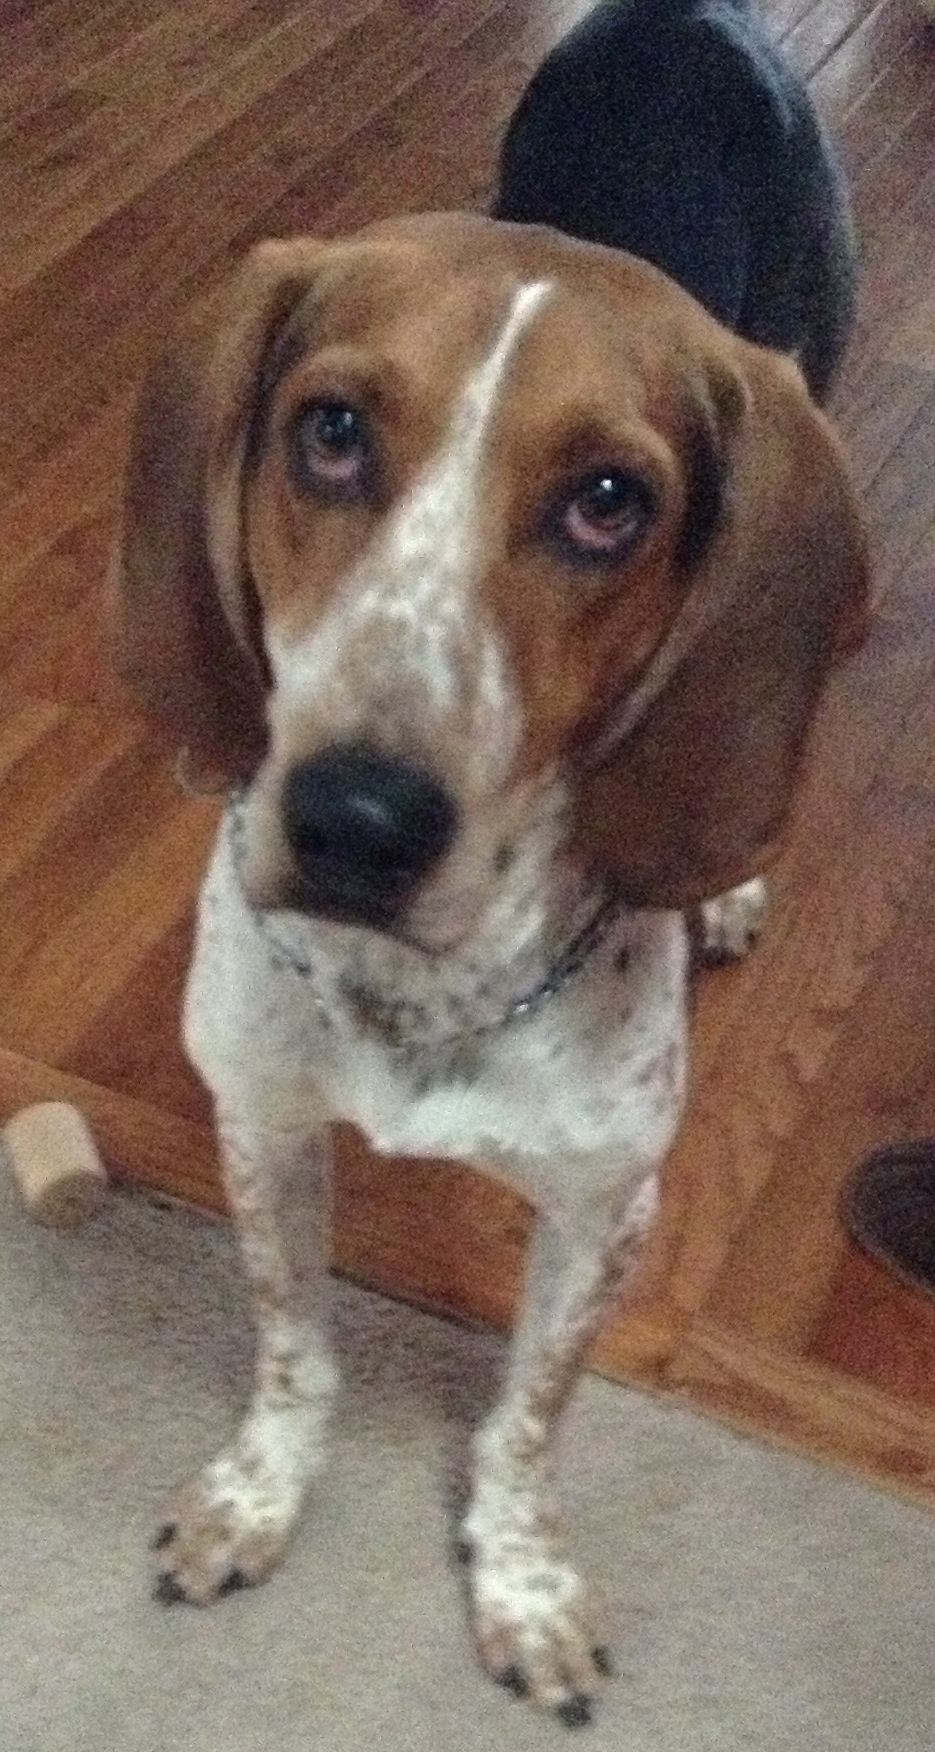dog: (131, 30, 823, 1718)
